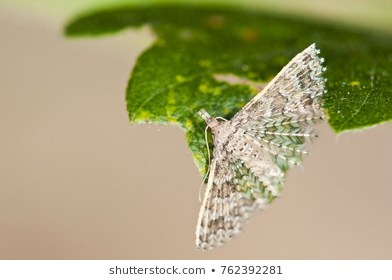Alucitidae: (192, 37, 329, 253)
moth: (190, 35, 327, 251)
